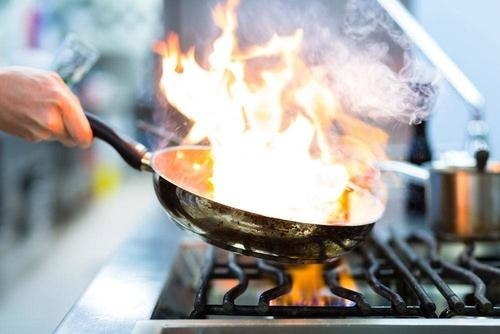fire: (153, 0, 380, 229)
